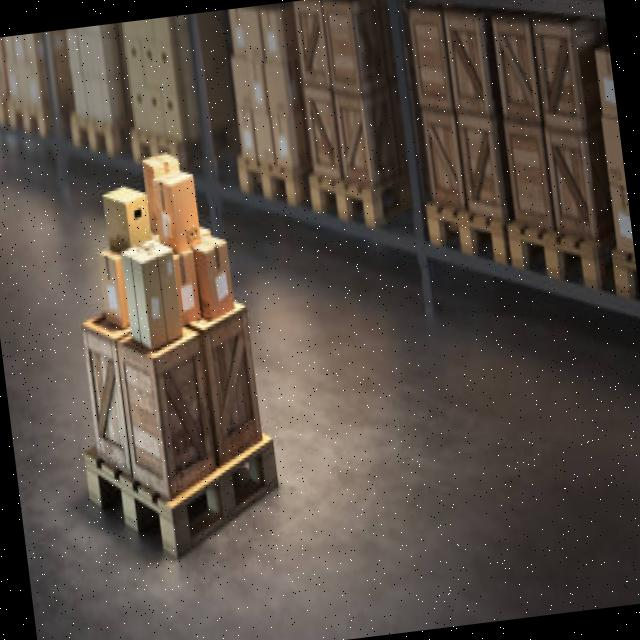Wooden-Pallets: (80, 439, 281, 557), (501, 211, 604, 304), (426, 197, 509, 282), (302, 161, 379, 247), (231, 144, 304, 225)
